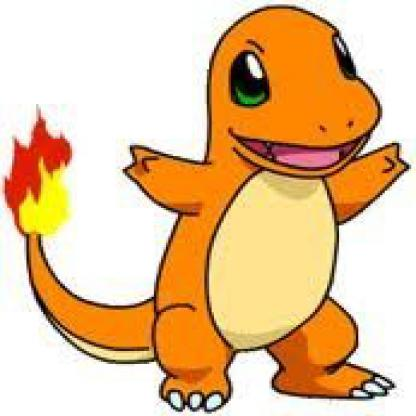Charmander: (1, 1, 415, 415)
